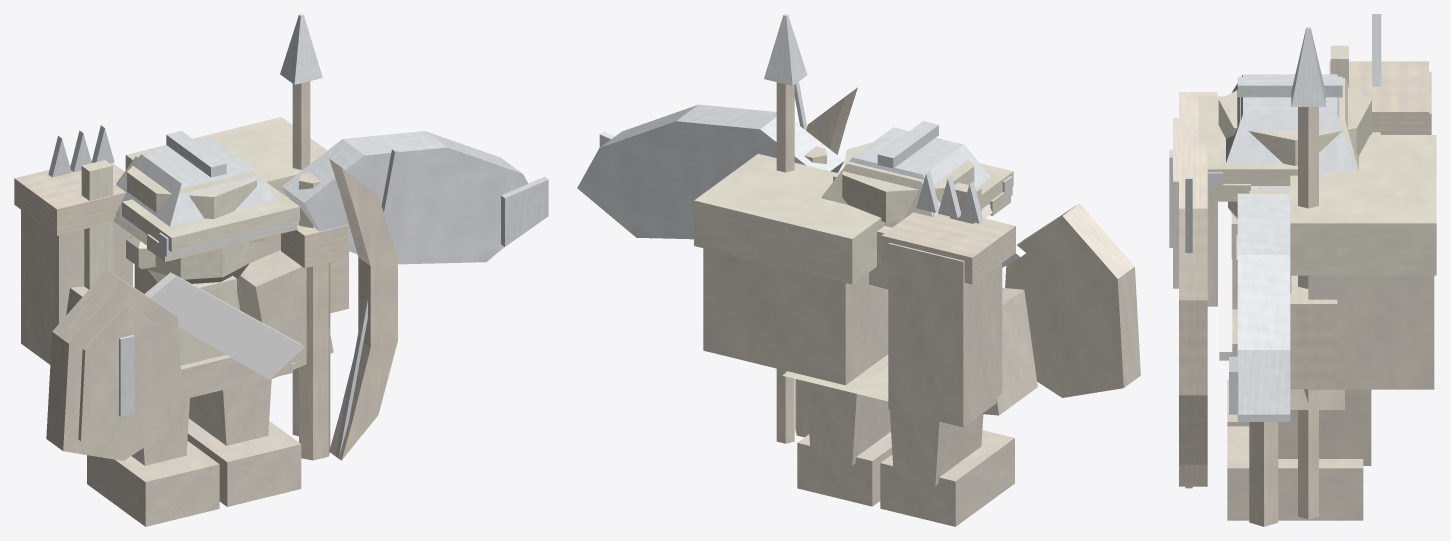
File: unit-art-v2.glb
3 views of the same model, side by side, from view 1: azimuth 30°, elevation 25°; view 2: azimuth 150°, elevation 25°; view 3: azimuth 270°, elevation 25° (orthographic). The views are drawn at different scales.
Parts seen in each view (by area): view 1: unit.humanoid-core, unit.worker.tool, unit.infantry.shield, unit.archer.quiver, unit.infantry.spear, unit.archer.bow, unit.team-accent, unit.worker.backpack; view 2: unit.worker.backpack, unit.humanoid-core, unit.archer.quiver, unit.worker.tool, unit.infantry.shield, unit.infantry.spear, unit.archer.bow; view 3: unit.worker.backpack, unit.humanoid-core, unit.worker.tool, unit.infantry.spear, unit.archer.bow, unit.archer.quiver, unit.infantry.shield, unit.team-accent.
Boxes of the visible parts, box(x1,y1,x2,y2) form: unit.humanoid-core: box(66, 146, 333, 526); unit.worker.tool: box(281, 131, 548, 460); unit.infantry.shield: box(46, 269, 183, 460); unit.archer.quiver: box(14, 125, 297, 364); unit.infantry.spear: box(115, 14, 322, 436); unit.archer.bow: box(329, 148, 398, 460); unit.team-accent: box(145, 272, 304, 379); unit.worker.backpack: box(125, 117, 348, 313); unit.worker.backpack: box(694, 153, 888, 385); unit.humanoid-core: box(782, 142, 1037, 526); unit.archer.quiver: box(822, 162, 1015, 427); unit.worker.tool: box(577, 104, 844, 437); unit.infantry.shield: box(1005, 203, 1140, 397); unit.infantry.spear: box(764, 14, 1012, 443); unit.archer.bow: box(794, 82, 857, 154); unit.worker.backpack: box(1290, 135, 1436, 389); unit.humanoid-core: box(1198, 87, 1371, 520); unit.worker.tool: box(1229, 186, 1291, 526); unit.infantry.spear: box(1207, 27, 1357, 519); unit.archer.bow: box(1179, 144, 1207, 488); unit.archer.quiver: box(1209, 14, 1431, 201); unit.infantry.shield: box(1169, 92, 1217, 306); unit.team-accent: box(1219, 201, 1232, 360).
Bounding box in the file's own units: 1.3 × 1.08 × 0.511.
2 materials, 1 textured.
